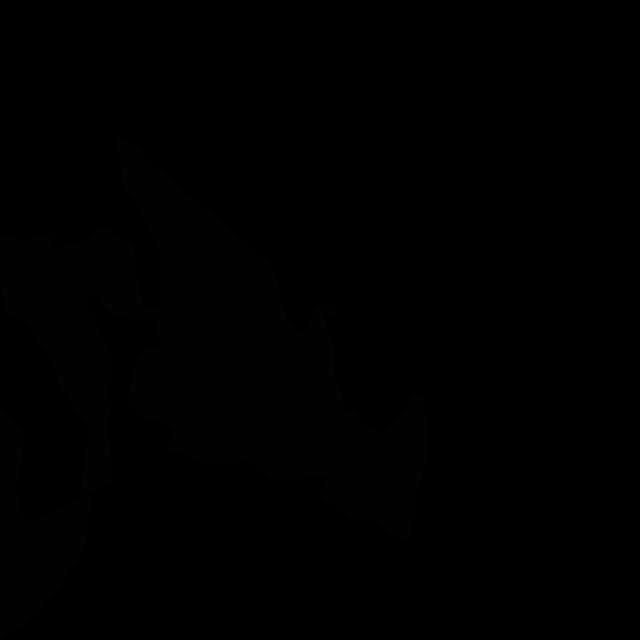cardboard: (115, 134, 351, 481), (10, 228, 159, 497), (0, 406, 92, 640), (318, 395, 430, 544), (0, 233, 31, 314)
